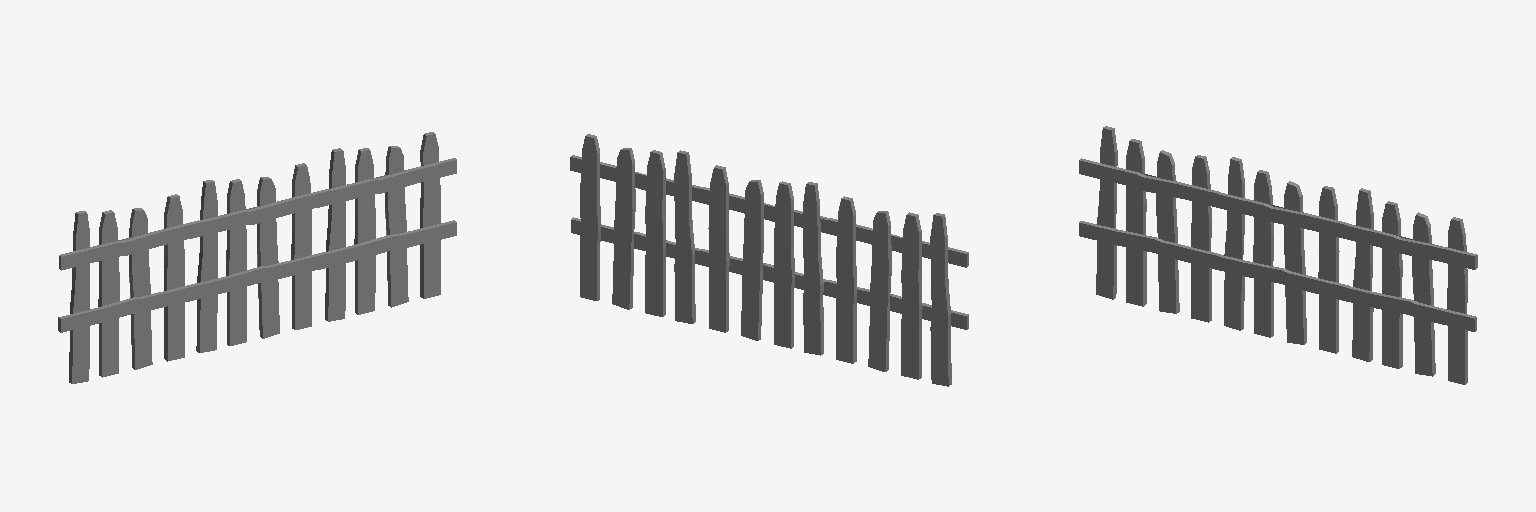
File: fence4.obj
The picture shows the model from 3 angles: view 1: azimuth 30°, elevation 25°; view 2: azimuth 150°, elevation 25°; view 3: azimuth 330°, elevation 25°; orthographic projection.
Parts seen in each view (by area): view 1: file.004; view 2: file.004; view 3: file.004.
Boxes of the visible parts, <box> form: file.004: <box>58,132,456,383</box>; file.004: <box>570,134,968,386</box>; file.004: <box>1079,126,1477,384</box>.
Bounding box in the file's own units: 2.84 × 1.16 × 0.0795.